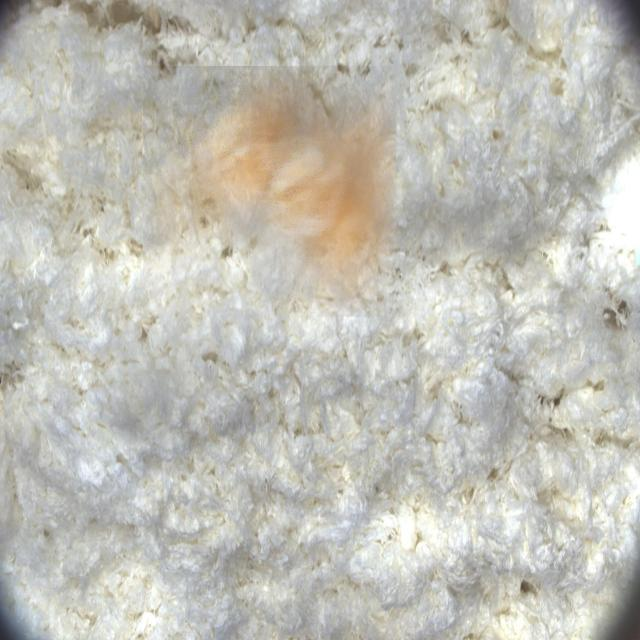dust: (143, 66, 397, 317)
